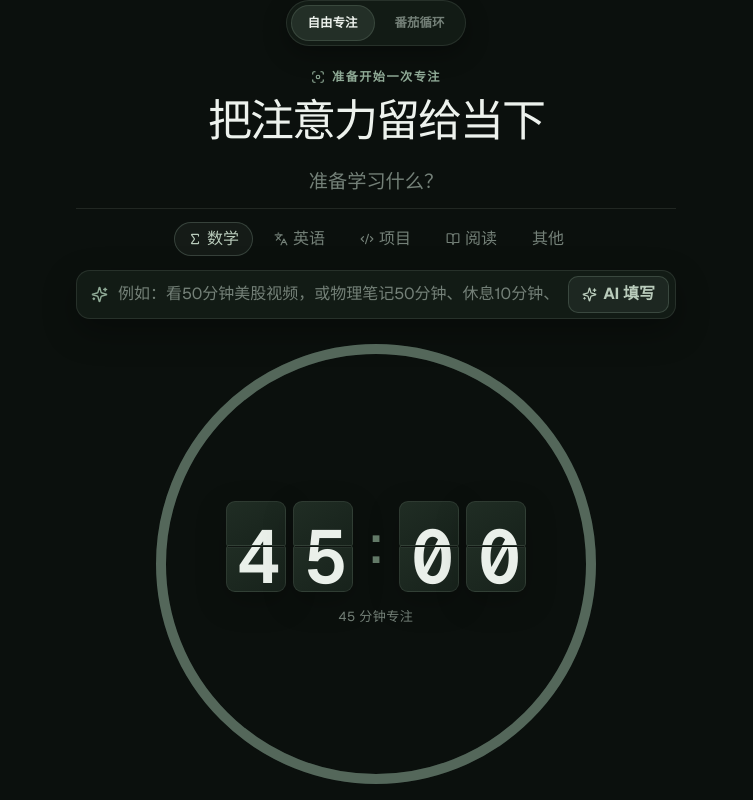
Test case: FocusTimer unified AI input › fills free-focus settings and remains idle until the user starts
The width and height of the screenshot is (753, 800).
In the field named "用自然语言设置计时器": point(338, 294) [118,282,558,306], type "看50分钟美股视频"
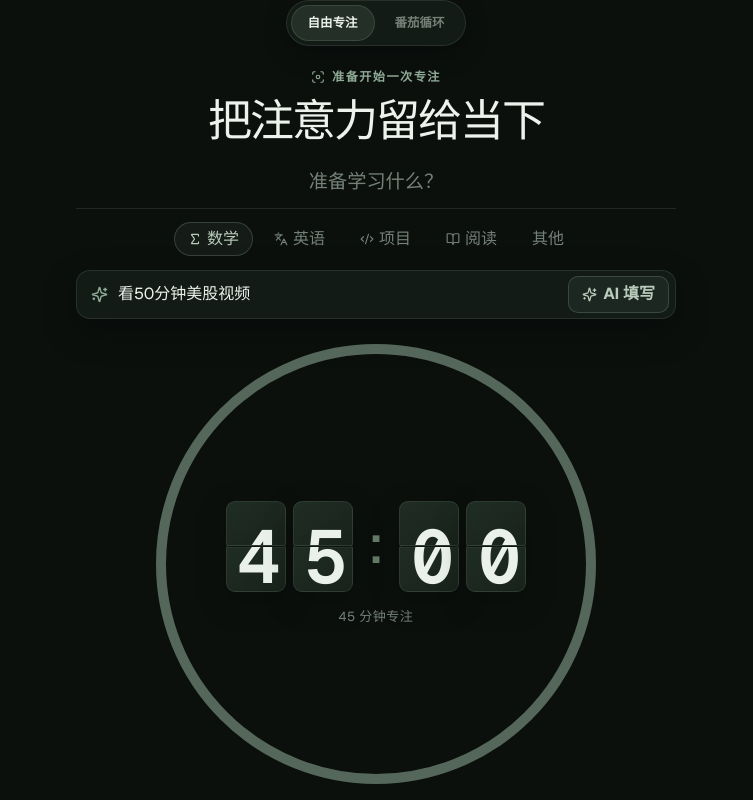
Click the button "AI 填写": point(619, 294) [568,276,669,313]
(page scrolled)
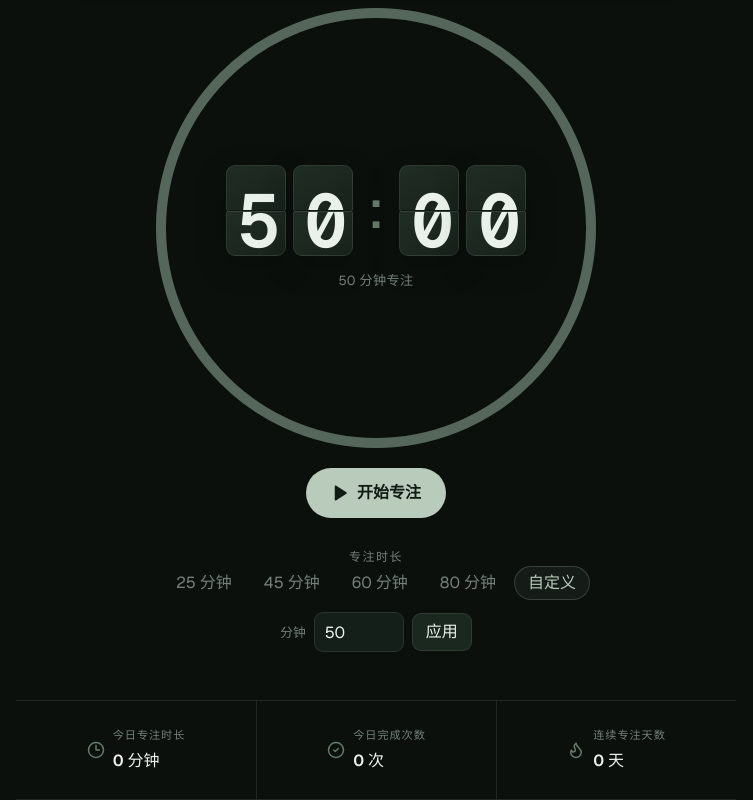
Expected: the button "开始专注" is shown, [306,468,446,518]
Expected: the element named "剩余时间 50:00" is shown, [226,165,526,256]
